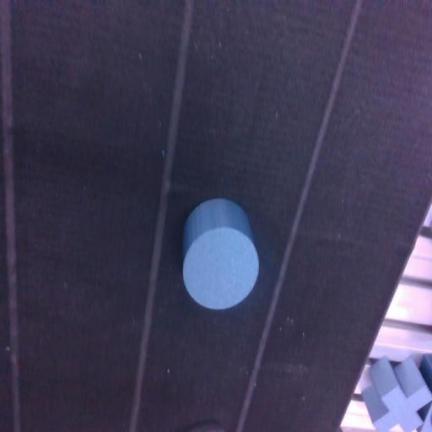cylinder: (182, 198, 259, 310), (184, 199, 259, 309)
